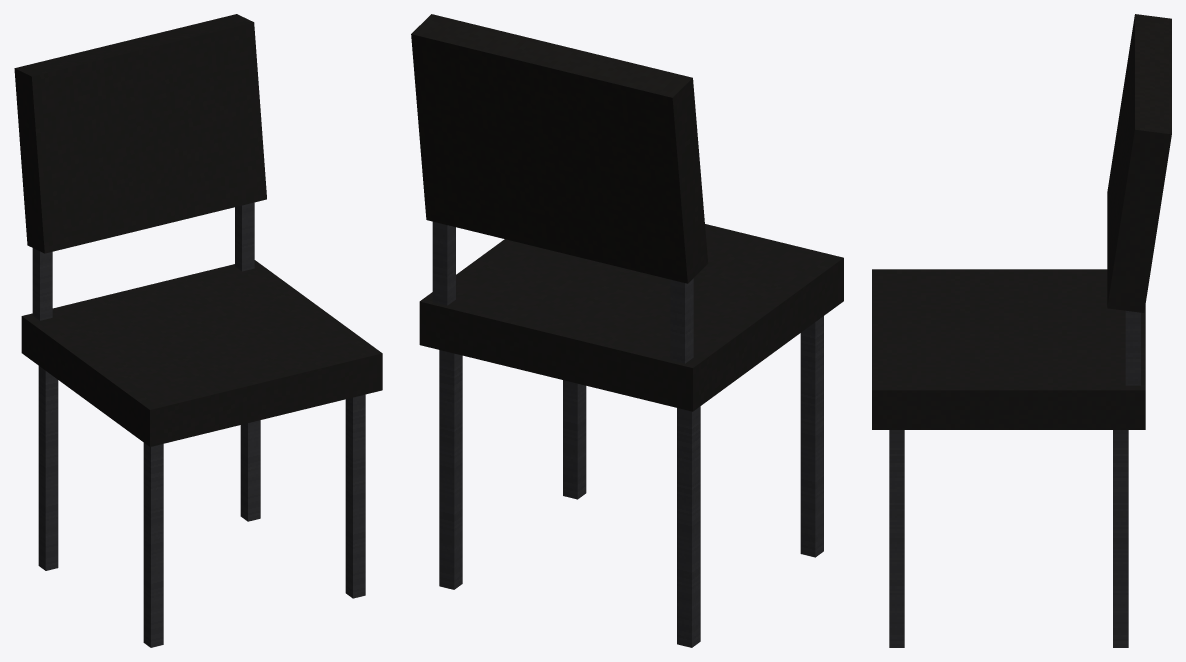
The model's file is chair.glb.
3 renders of one model, left to right at view 1: azimuth 30°, elevation 25°; view 2: azimuth 150°, elevation 25°; view 3: azimuth 270°, elevation 25°, orthographic. The views are drawn at different scales.
Visible parts, largest first — view 1: chair; view 2: chair; view 3: chair.
Boxes of the visible parts, x1,y1,x2,y2 form: chair: (14, 14, 382, 647); chair: (411, 14, 843, 647); chair: (872, 14, 1171, 647).
Bounding box in the file's own units: 0.46 × 0.9226 × 0.482.
Materials: 2 (2 with a texture image).
